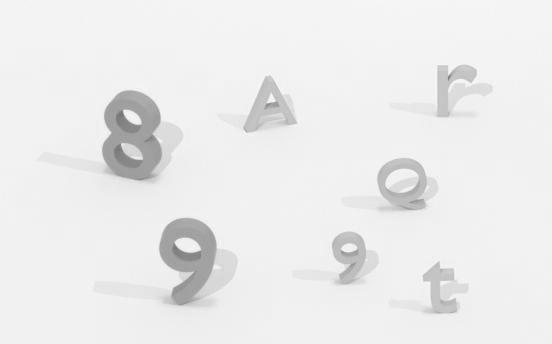chu_khoi: (244, 76, 296, 131), (377, 158, 426, 209), (437, 65, 476, 116), (423, 262, 457, 312)
so_khoi: (102, 90, 163, 179), (159, 218, 216, 304), (332, 231, 365, 282)
